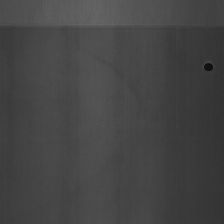punching_hole: (1, 15, 221, 34), (203, 60, 215, 73)
